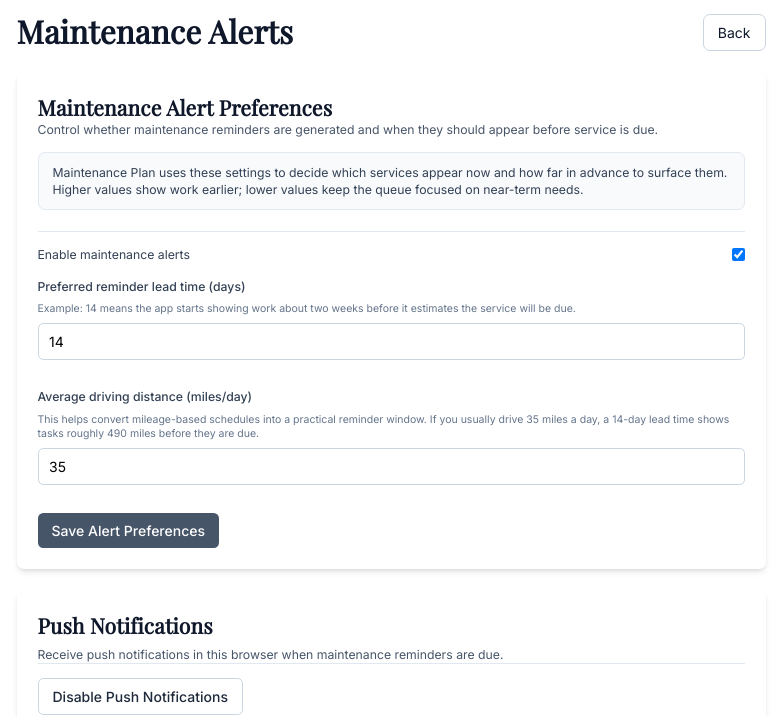
MaintenanceAlerts – push notification opt-in › saves empty string and switches to Enable button on Disable click
Click the button "Disable Push Notifications" at (140, 696), box [38,678,243,715]
(page scrolled)
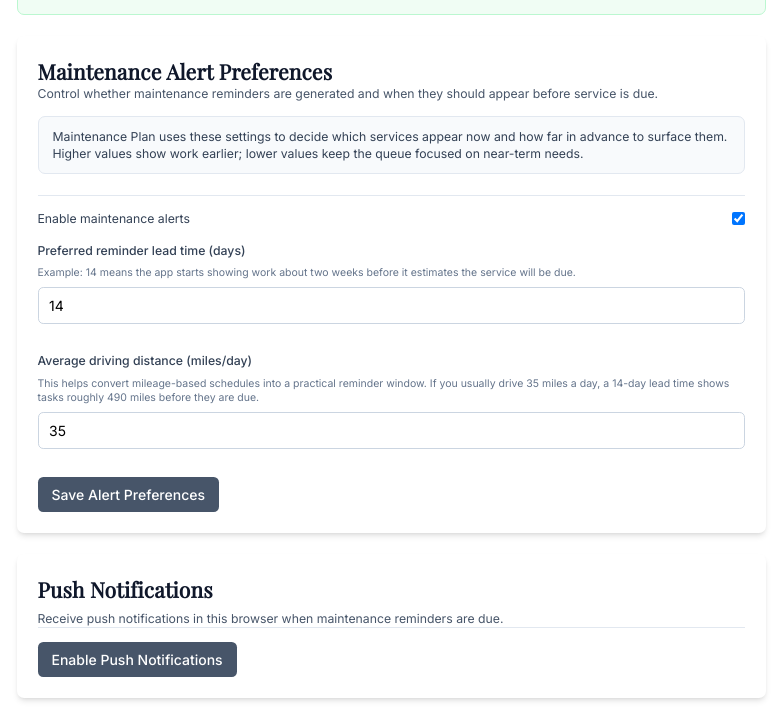
Check: the button "Enable Push Notifications" is shown, box [38,642,237,677]
